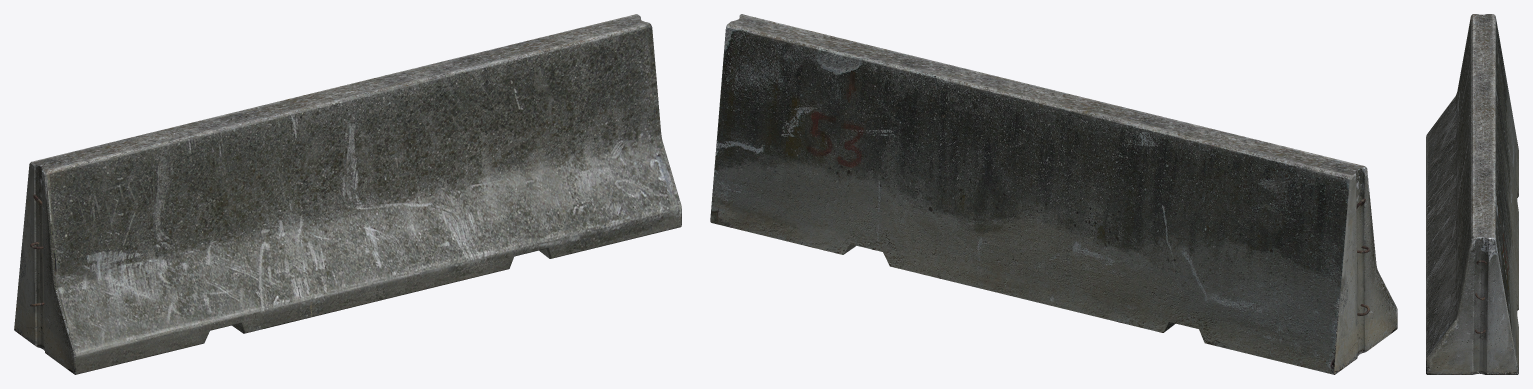
The model's file is Barrier1.obj.
The picture shows the model from 3 angles, left to right: view 1: azimuth 30°, elevation 25°; view 2: azimuth 150°, elevation 25°; view 3: azimuth 270°, elevation 25°; orthographic projection. The views are drawn at different scales.
Parts seen in each view (by area): view 1: RoadBlockade_01; view 2: RoadBlockade_01; view 3: RoadBlockade_01.
Boxes of the visible parts, <box> form: RoadBlockade_01: <box>14,14,681,374</box>; RoadBlockade_01: <box>710,14,1397,374</box>; RoadBlockade_01: <box>1426,14,1518,374</box>.
Size of the model in its own units: 2.88 by 0.8 by 0.4903.
